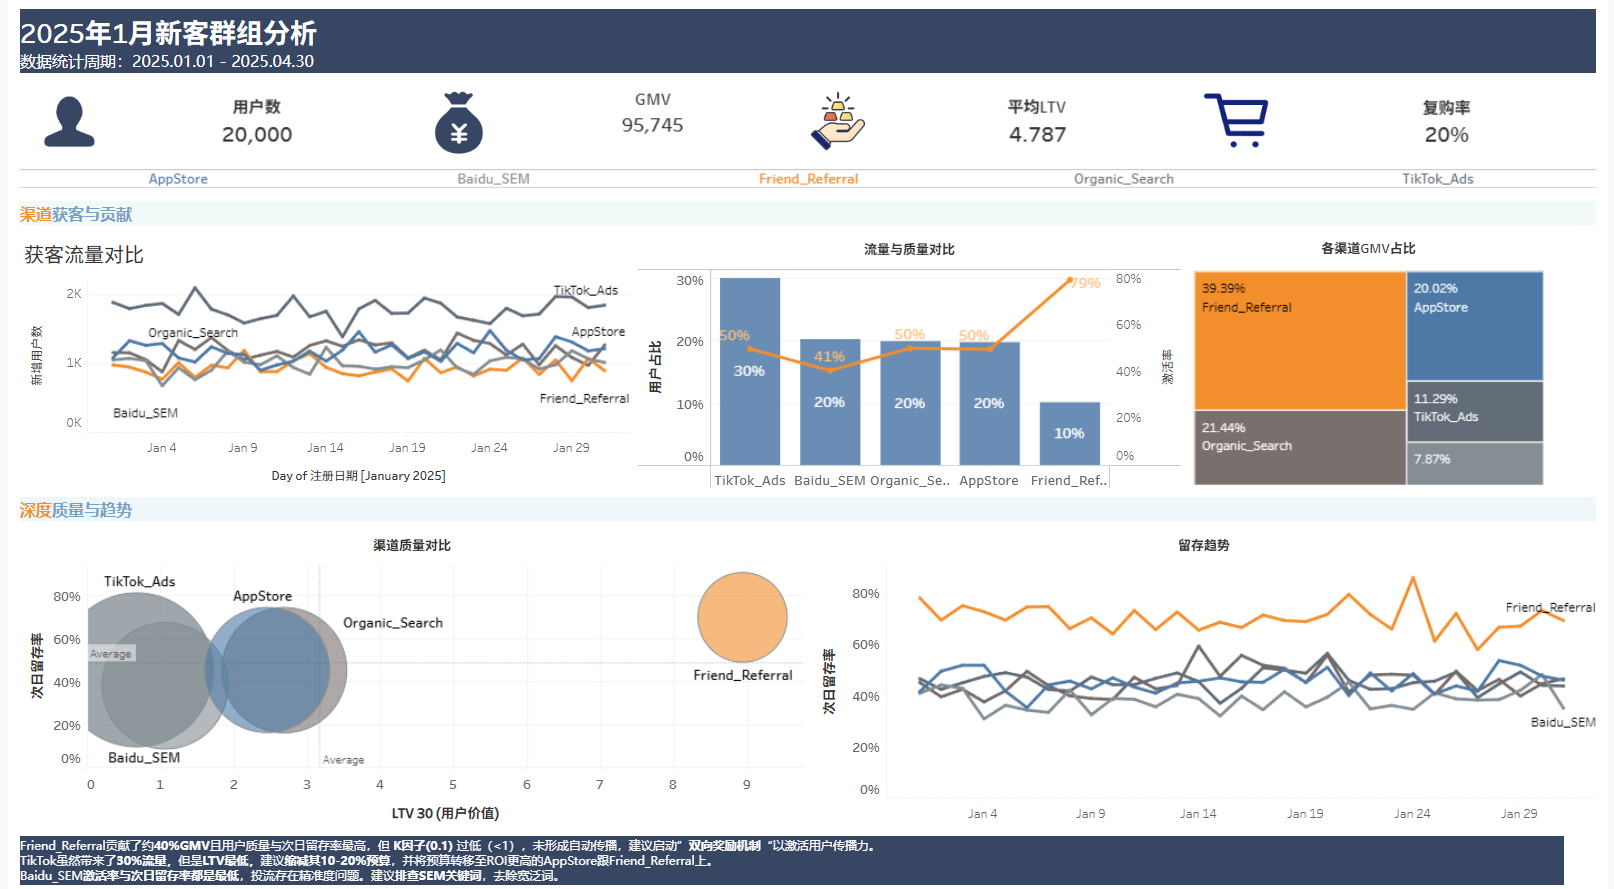

This screenshot's page, from the dashboard's own definition file:
{"tool":"tableau","page":{"name":"2025年1月新客群组分析","canvas":[1600,900],"ordinal":0},"visuals":[{"type":"title","box":[8,8,1584,72]},{"type":"image","param":"Image/总人数.png","box":[8,80,105,84]},{"type":"worksheet","title":"用户数卡片","mark":"Automatic","box":[113,80,270,84]},{"type":"image","param":"Image/钱袋.png","box":[383,80,133,84]},{"type":"worksheet","title":"GMV卡片","mark":"Automatic","box":[516,80,257.9,84]},{"type":"image","param":"Image/价值.png","box":[773.9,80,109,84]},{"type":"worksheet","title":"平均LTV卡片","mark":"Automatic","box":[882.9,80,292,84]},{"type":"image","param":"Image/润桐医药 [已恢复]_购物车-14.png","box":[1175,80,110,84]},{"type":"worksheet","title":"复购率卡片","mark":"Automatic","box":[1285,80,307,84]},{"type":"worksheet","title":"点亮","mark":"Text","cols":["渠道"],"box":[8,164,1584,27]},{"type":"text","box":[8,196,1584,30]},{"type":"worksheet","title":"获客流量对比","mark":"Automatic","rows":["新增用户数"],"cols":["注册日期"],"box":[8,226,618,264]},{"type":"worksheet","title":"流量与质量对比","mark":"Bar","rows":["用户占比","激活率"],"cols":["渠道"],"box":[626,226,552,264]},{"type":"worksheet","title":"各渠道GMV占比","mark":"Automatic","box":[1178,226,414,264]},{"type":"text","box":[8,490,1584,32]},{"type":"worksheet","title":"渠道质量对比","mark":"Circle","rows":["平均次日留存率"],"cols":["LTV_30"],"box":[8,522,792,313]},{"type":"worksheet","title":"留存趋势","mark":"Automatic","rows":["次日留存率"],"cols":["注册日期"],"box":[800,522,792,313]},{"type":"text","box":[8,835,1552,57]}]}

Visuals, with their boxes in screenshot pixels (x1, y1, x2, y2), scaled from the page's 1600x900 canvas onto the 1614x889 screenshot:
title: Rect(8, 8, 1606, 79)
image: Rect(8, 79, 114, 162)
"用户数卡片" worksheet: Rect(114, 79, 386, 162)
image: Rect(386, 79, 521, 162)
"GMV卡片" worksheet: Rect(521, 79, 781, 162)
image: Rect(781, 79, 891, 162)
"平均LTV卡片" worksheet: Rect(891, 79, 1185, 162)
image: Rect(1185, 79, 1296, 162)
"复购率卡片" worksheet: Rect(1296, 79, 1606, 162)
"点亮" worksheet (Text marks): Rect(8, 162, 1606, 189)
text: Rect(8, 194, 1606, 223)
"获客流量对比" worksheet: Rect(8, 223, 631, 484)
"流量与质量对比" worksheet (Bar marks): Rect(631, 223, 1188, 484)
"各渠道GMV占比" worksheet: Rect(1188, 223, 1606, 484)
text: Rect(8, 484, 1606, 516)
"渠道质量对比" worksheet (Circle marks): Rect(8, 516, 807, 825)
"留存趋势" worksheet: Rect(807, 516, 1606, 825)
text: Rect(8, 825, 1574, 881)
